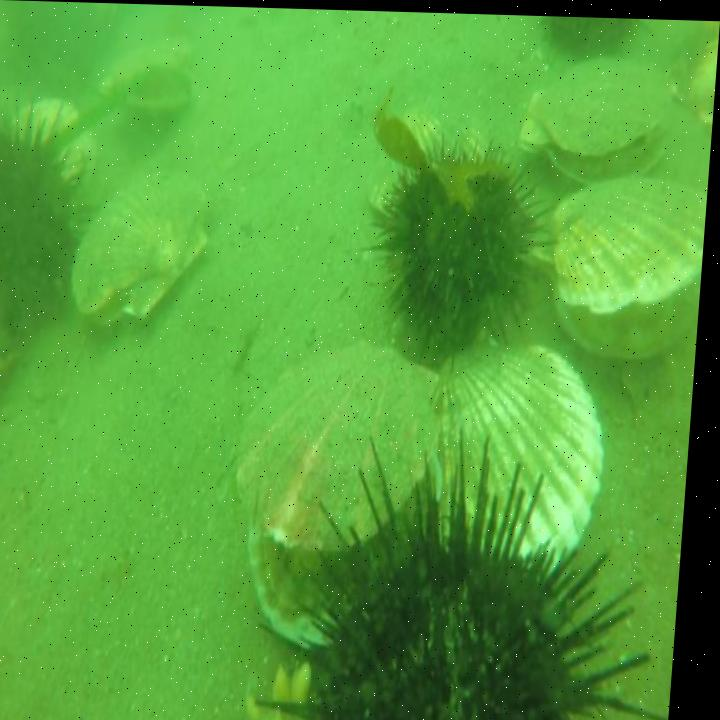echinus: (261, 419, 696, 720), (380, 130, 556, 351), (0, 94, 85, 344)
scallop: (230, 328, 455, 656), (430, 325, 621, 571), (545, 162, 711, 364), (75, 168, 222, 329), (518, 48, 680, 185), (373, 82, 496, 239), (96, 38, 209, 124), (14, 84, 82, 141), (104, 426, 114, 432)
